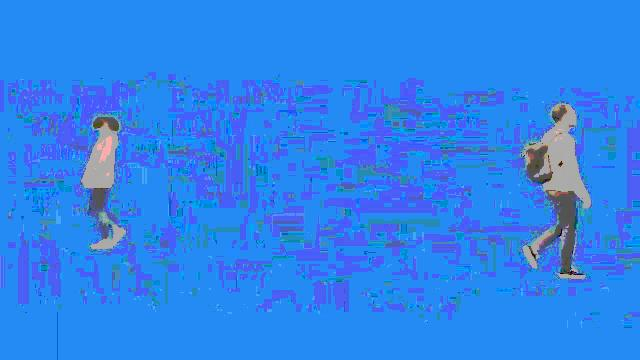berjalan: (515, 100, 593, 284), (70, 101, 134, 251)
